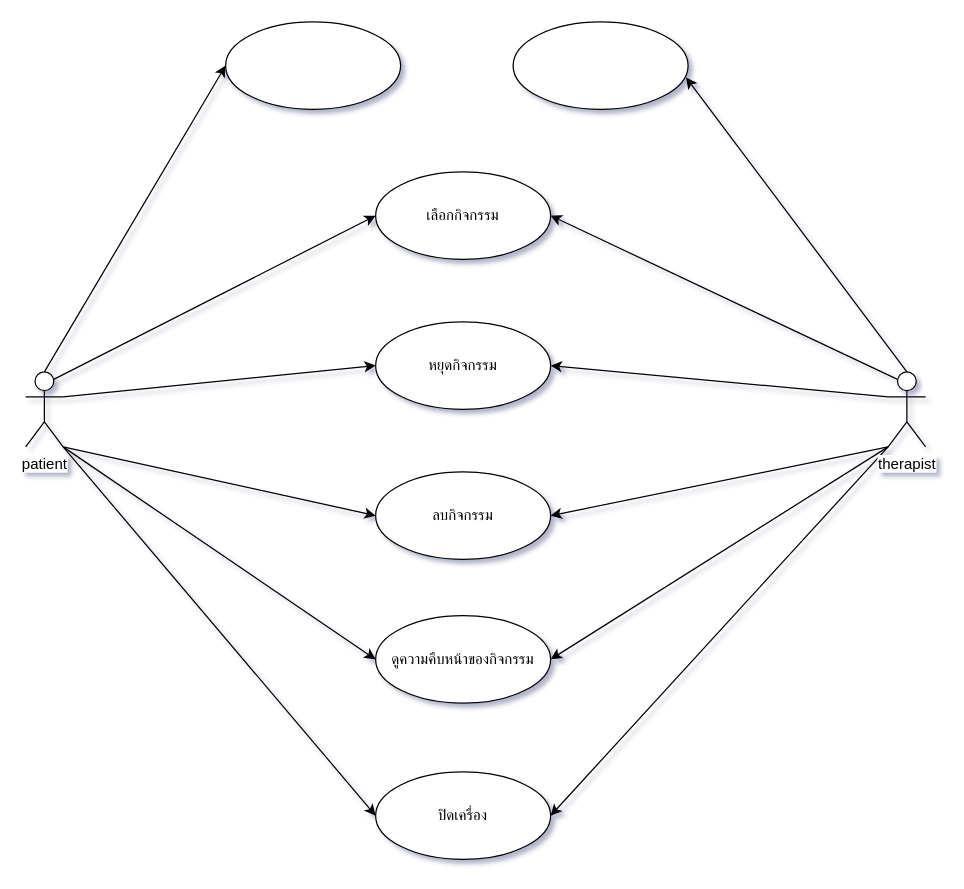
Some shapes in this 964 by 889 pixel diagram are drawn without their labels. Here are the shapes that lost their labels. From the top down, the centre of each, then its label:
pixel 312 65: ตั้งค่ากิจกรรม แบบอัตโนมัติ (round, speed)
pixel 600 65: ตั้งค่ากิจกรรม แบบตั้งชื่อ (round, speed, name)
